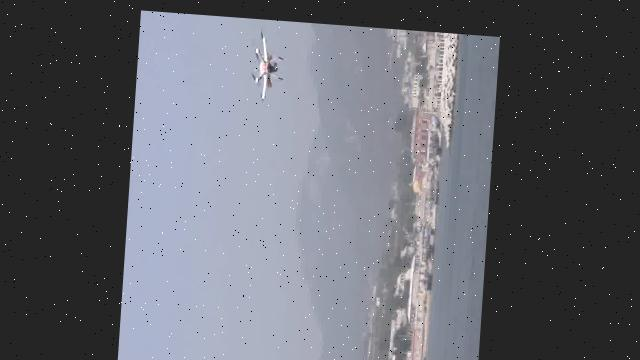drone: (241, 20, 289, 113)
